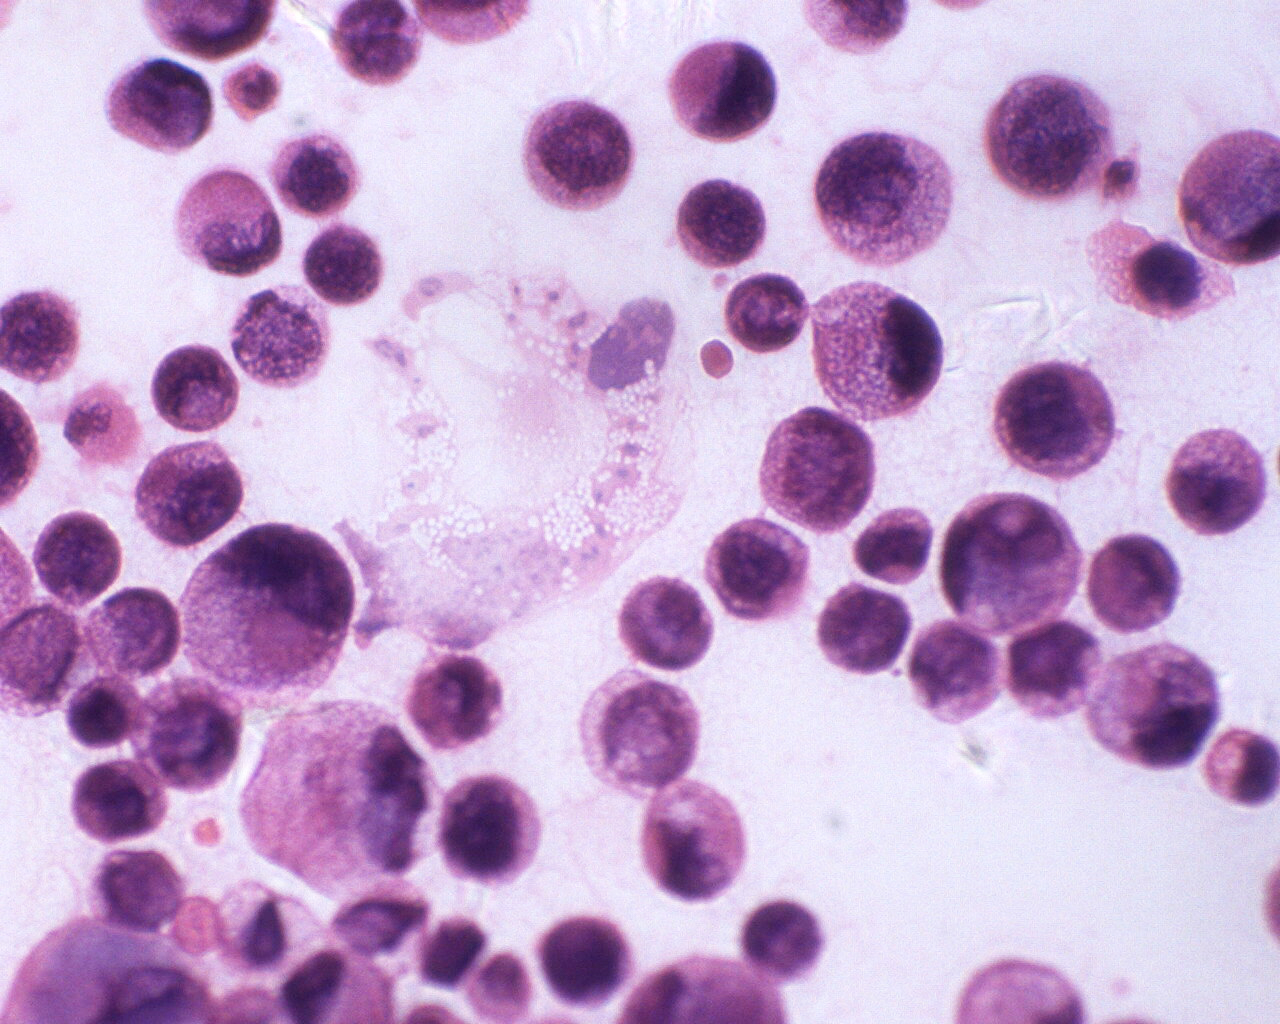ab: (178, 520, 364, 699), (813, 127, 956, 267), (983, 71, 1111, 208), (991, 352, 1119, 484), (520, 93, 638, 218), (172, 166, 284, 282), (1156, 423, 1265, 538), (433, 767, 541, 883), (132, 441, 246, 551), (706, 512, 813, 629), (99, 55, 215, 158), (670, 39, 778, 147), (1088, 530, 1182, 638), (1006, 620, 1104, 723), (811, 581, 910, 681), (672, 176, 771, 275), (149, 340, 243, 433), (271, 127, 359, 225), (70, 761, 174, 842), (850, 501, 938, 589), (61, 674, 146, 750)
histo: (806, 274, 946, 417)
